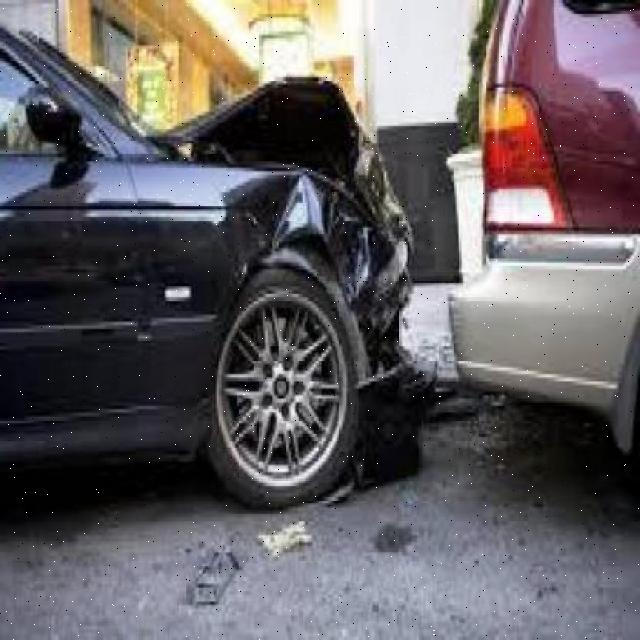damage: (163, 80, 445, 402)
